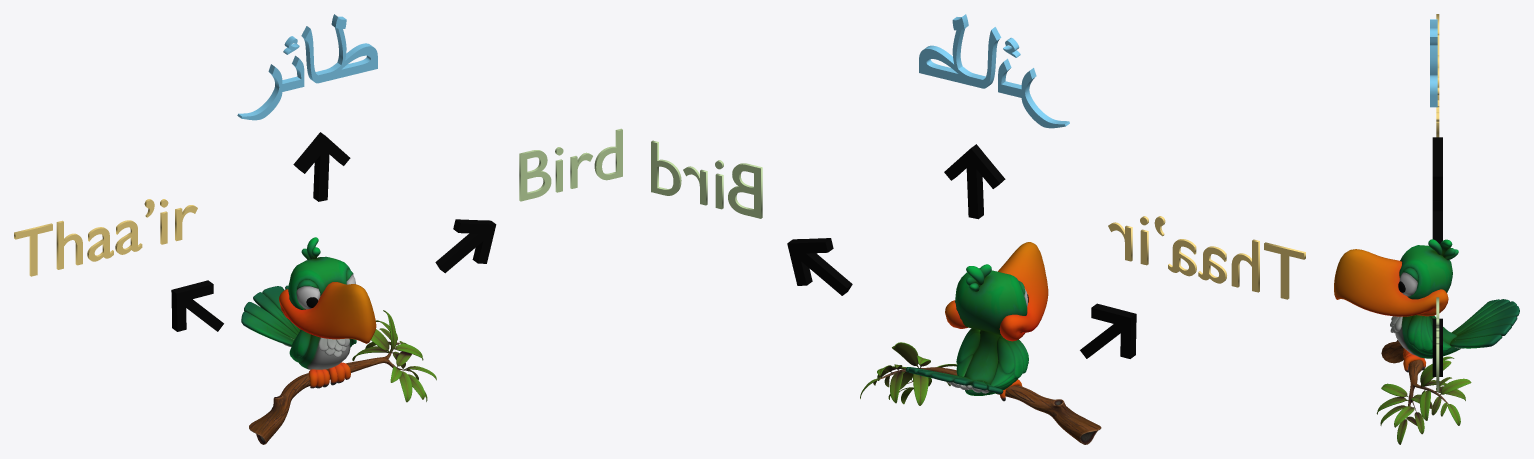
The model's file is Bird1.fbx.
3 renders of one model, left to right at view 1: azimuth 30°, elevation 25°; view 2: azimuth 150°, elevation 25°; view 3: azimuth 270°, elevation 25°, orthographic. The views are drawn at different scales.
Parts seen in each view (by area): view 1: SM_Bird.001, SM_branch.001, text4, Text.001, Text, Cube.001, Cube.003, Cube.002; view 2: SM_Bird.001, text4, Text.001, SM_branch.001, Text, Cube.001, Cube.003, Cube.002; view 3: SM_Bird.001, SM_branch.001, Cube.003, text4, Cube.001, Cube.002, Text.001, Text.
Boxes of the visible parts, x1=… form: SM_Bird.001: x1=241, y1=237, x2=376, y2=388; SM_branch.001: x1=249, y1=310, x2=436, y2=444; text4: x1=237, y1=14, x2=377, y2=120; Text.001: x1=14, y1=199, x2=197, y2=276; Text: x1=519, y1=128, x2=622, y2=201; Cube.001: x1=435, y1=219, x2=496, y2=273; Cube.003: x1=293, y1=132, x2=350, y2=201; Cube.002: x1=171, y1=280, x2=223, y2=331; SM_Bird.001: x1=905, y1=242, x2=1048, y2=401; text4: x1=919, y1=14, x2=1069, y2=128; Text.001: x1=1108, y1=216, x2=1305, y2=299; SM_branch.001: x1=860, y1=342, x2=1101, y2=444; Text: x1=651, y1=140, x2=762, y2=218; Cube.001: x1=787, y1=238, x2=852, y2=295; Cube.003: x1=944, y1=144, x2=1005, y2=219; Cube.002: x1=1080, y1=303, x2=1136, y2=358; SM_Bird.001: x1=1334, y1=239, x2=1519, y2=372; SM_branch.001: x1=1376, y1=340, x2=1471, y2=444; Cube.003: x1=1432, y1=137, x2=1442, y2=201; text4: x1=1430, y1=19, x2=1437, y2=107; Cube.001: x1=1432, y1=318, x2=1442, y2=376; Cube.002: x1=1432, y1=201, x2=1442, y2=243; Text.001: x1=1436, y1=14, x2=1439, y2=137; Text: x1=1436, y1=297, x2=1439, y2=391.
Bounding box in the file's own units: 178 × 110 × 48.29.
6 materials, 2 textured.
